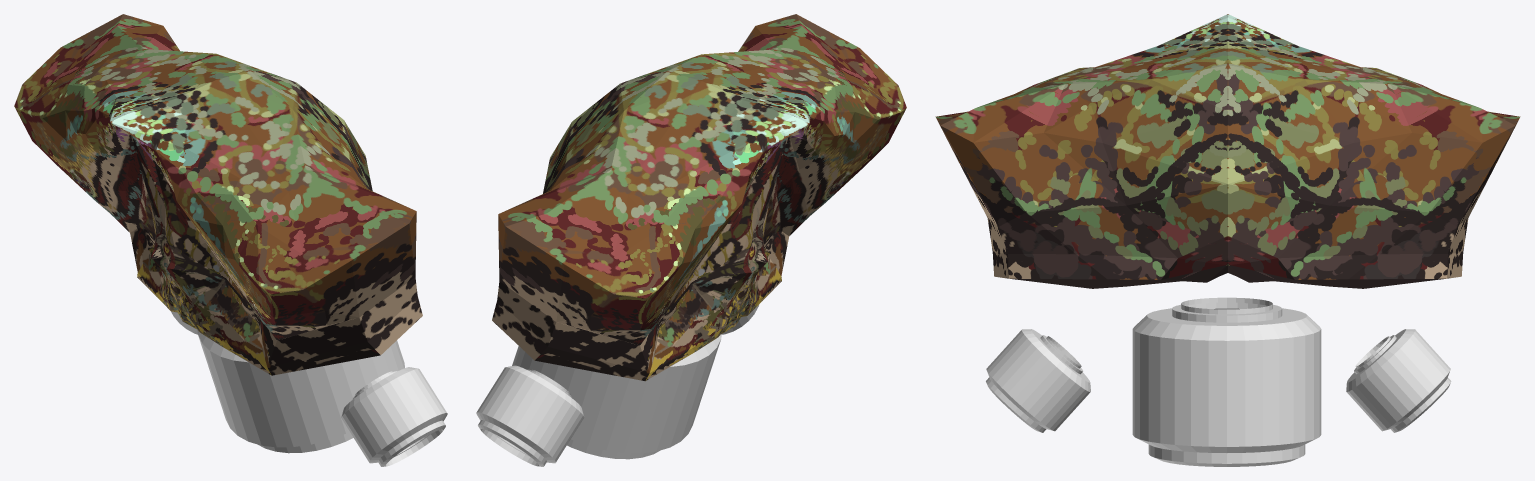
File: that flying enemy.fbx
3 renders of one model, left to right at view 1: azimuth 30°, elevation 25°; view 2: azimuth 150°, elevation 25°; view 3: azimuth 270°, elevation 25°, orthographic.
Visible parts, largest first — view 1: Cube, Cylinder, Cylinder.001; view 2: Cube, Cylinder, Cylinder.002; view 3: Cube, Cylinder, Cylinder.001, Cylinder.002.
Part boxes in pixels (x1,y1,x2,y2): Cube: (14,14,422,375); Cylinder: (197,330,404,453); Cylinder.001: (341,367,447,466); Cube: (492,14,906,381); Cylinder: (512,334,721,459); Cylinder.002: (476,365,584,466); Cube: (935,14,1520,288); Cylinder: (1132,297,1321,466); Cylinder.001: (986,329,1090,432); Cylinder.002: (1346,329,1451,432).
Size of the model in its own units: 374 by 476 by 668.
Materials: 1 (1 with a texture image).
